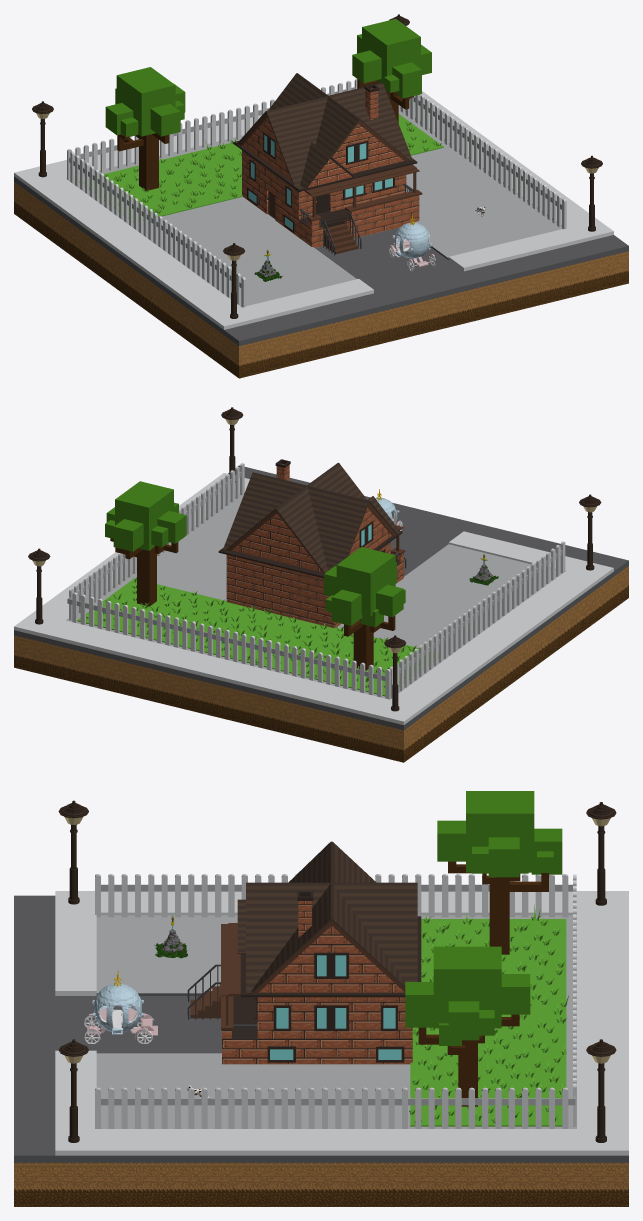
The picture shows the model from 3 angles, top to bottom: view 1: azimuth 30°, elevation 25°; view 2: azimuth 150°, elevation 25°; view 3: azimuth 270°, elevation 25°; orthographic projection. The views are drawn at different scales.
Parts seen in each view (by area): view 1: Cube.004, Cube.469, VEHICLES_FANTASY_CARRIAGE; view 2: Cube.004, Cube.469; view 3: Cube.004, Cube.469, VEHICLES_FANTASY_CARRIAGE, OBJRANDOM_SWORD_IN_THE_STONE.
Part boxes in pixels (x1,y1,x2,y2): Cube.004: (14,14,628,378); Cube.469: (233,73,422,255); VEHICLES_FANTASY_CARRIAGE: (389,214,435,271); Cube.004: (14,407,628,762); Cube.469: (218,459,406,627); Cube.004: (14,791,628,1206); Cube.469: (187,841,421,1064); VEHICLES_FANTASY_CARRIAGE: (84,970,157,1043); OBJRANDOM_SWORD_IN_THE_STONE: (154,915,187,958).
Size of the model in its own units: 4000 by 1624 by 4000.
Materials: 34 (5 with a texture image).
